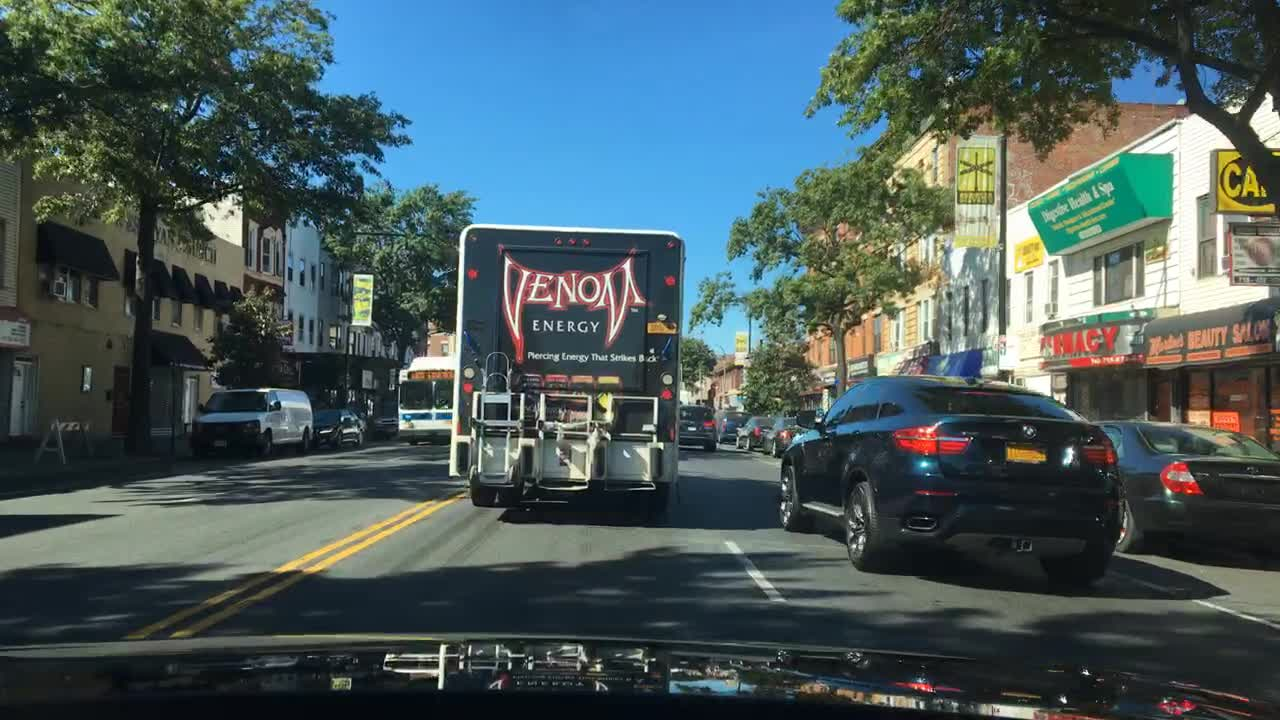bus: (396, 353, 454, 446)
car: (773, 372, 1119, 582), (1085, 418, 1276, 556), (188, 387, 310, 456), (311, 407, 366, 449), (680, 402, 716, 455), (731, 418, 782, 450), (761, 419, 804, 456), (711, 403, 746, 441), (369, 400, 401, 439)
truck: (447, 222, 683, 514)
